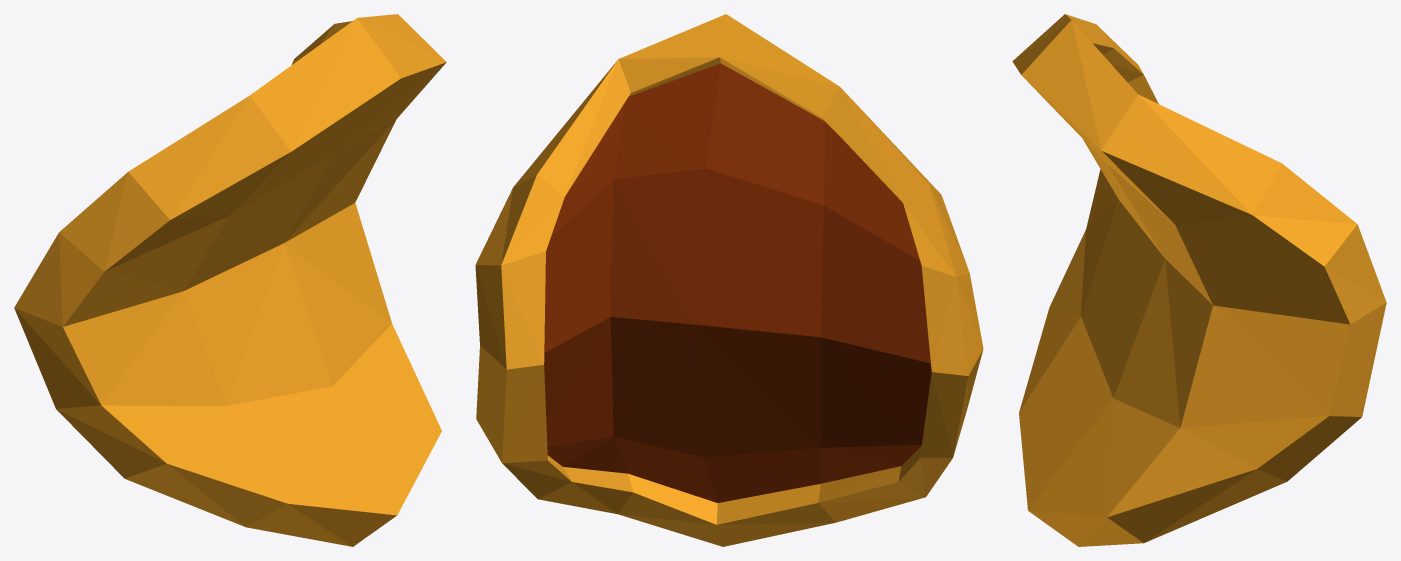
Rendered from Pauldron 11.FBX.
3 views of the same model, side by side, from view 1: azimuth 30°, elevation 25°; view 2: azimuth 150°, elevation 25°; view 3: azimuth 270°, elevation 25° (orthographic).
Parts seen in each view (by area): view 1: Pauldron 11; view 2: Pauldron 11; view 3: Pauldron 11.
Part boxes in pixels (x1,y1,x2,y2): Pauldron 11: [14, 14, 446, 546]; Pauldron 11: [475, 14, 983, 546]; Pauldron 11: [1012, 14, 1386, 546].
Bounding box in the file's own units: 31.19 × 24.45 × 38.01.
Materials: 1 (1 with a texture image).
